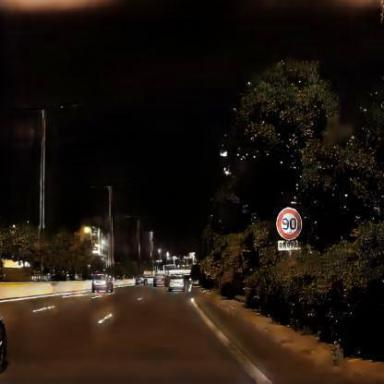Speed_limit_90: (277, 208, 302, 240)
